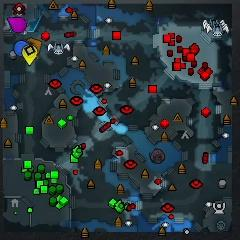p1: (15, 40, 28, 56)
p3: (7, 16, 27, 33)
p4: (22, 45, 37, 65)
x5: (29, 38, 42, 54)
